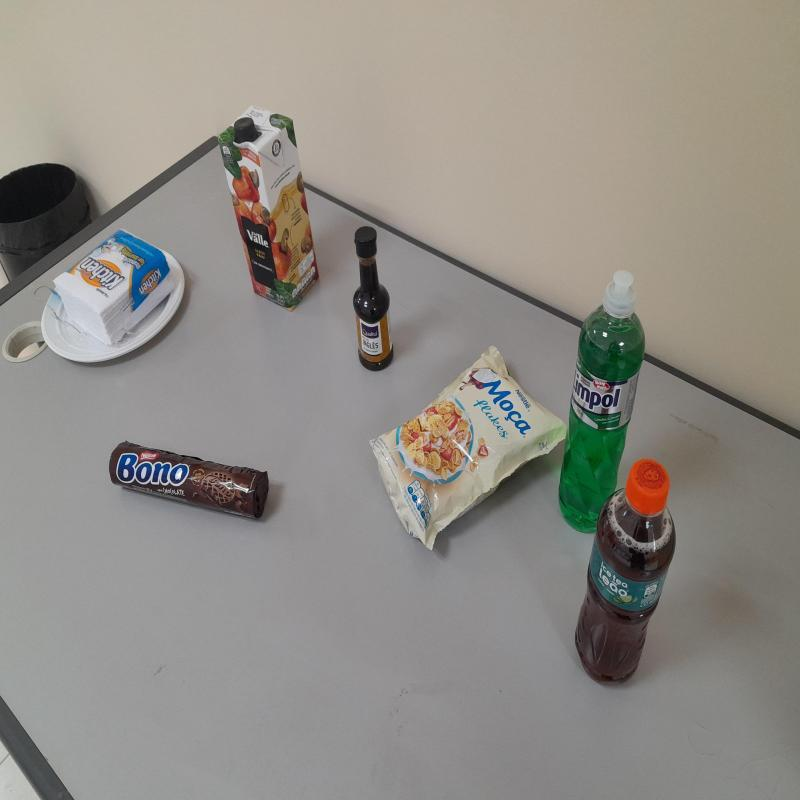Cleaner: (557, 272, 646, 537)
Cookies: (107, 443, 270, 524)
CornFlakes: (371, 348, 568, 550)
EnglishSauce: (354, 229, 395, 374)
IceTea: (575, 460, 676, 686)
